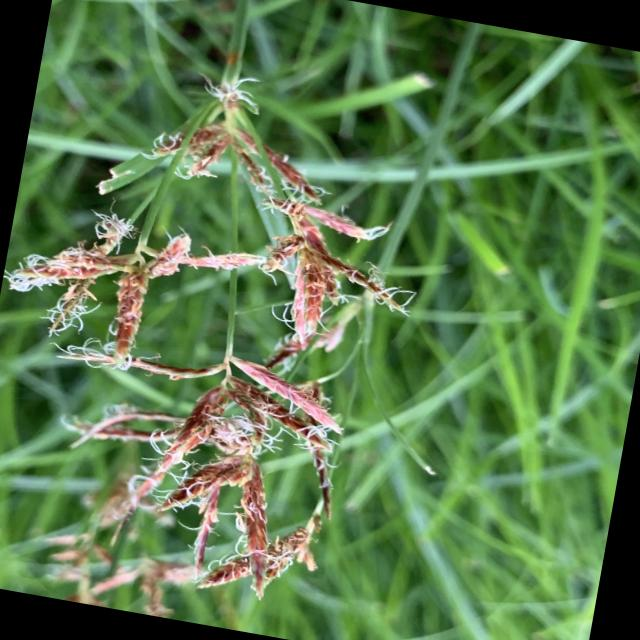cyperus: (0, 39, 459, 640)
